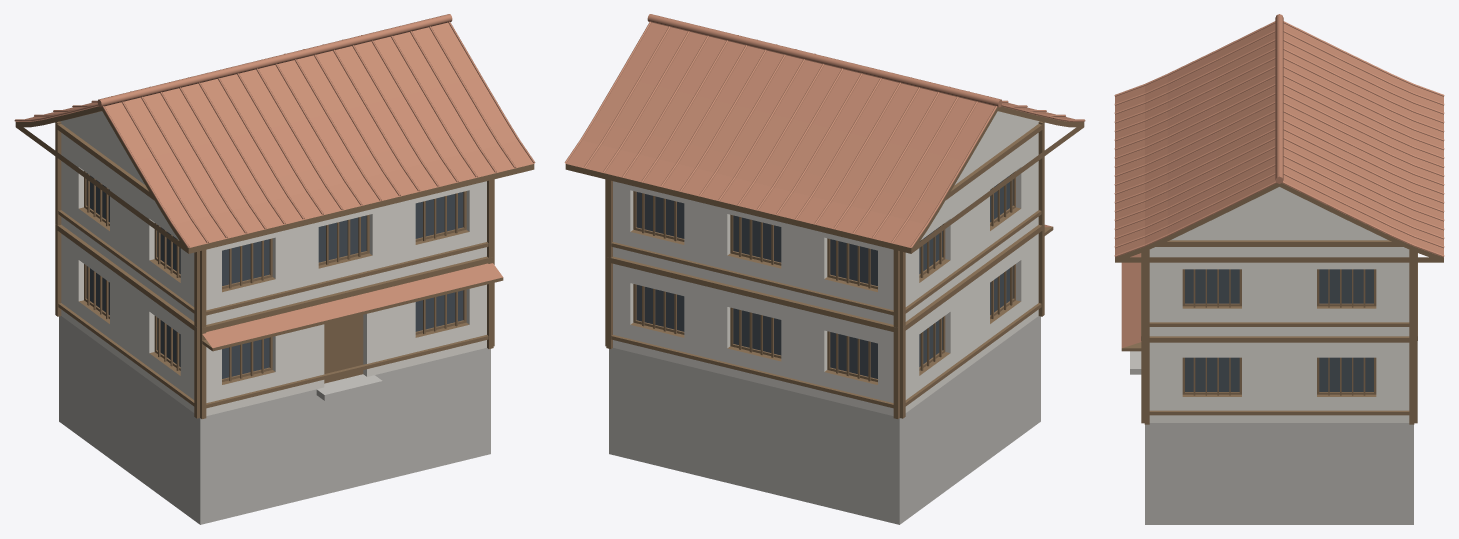
Rendered from japanese_house_2_s.glb.
The picture shows the model from 3 angles, left to right: view 1: azimuth 30°, elevation 25°; view 2: azimuth 150°, elevation 25°; view 3: azimuth 270°, elevation 25°; orthographic projection. The views are drawn at different scales.
Parts seen in each view (by area): view 1: japanese_house_2_s; view 2: japanese_house_2_s; view 3: japanese_house_2_s.
Part boxes in pixels (x1=…): japanese_house_2_s: x1=14, y1=14, x2=535, y2=524; japanese_house_2_s: x1=564, y1=14, x2=1085, y2=524; japanese_house_2_s: x1=1114, y1=14, x2=1444, y2=524.
Bounding box in the file's own units: 11.46 × 11.9 × 9.83.
